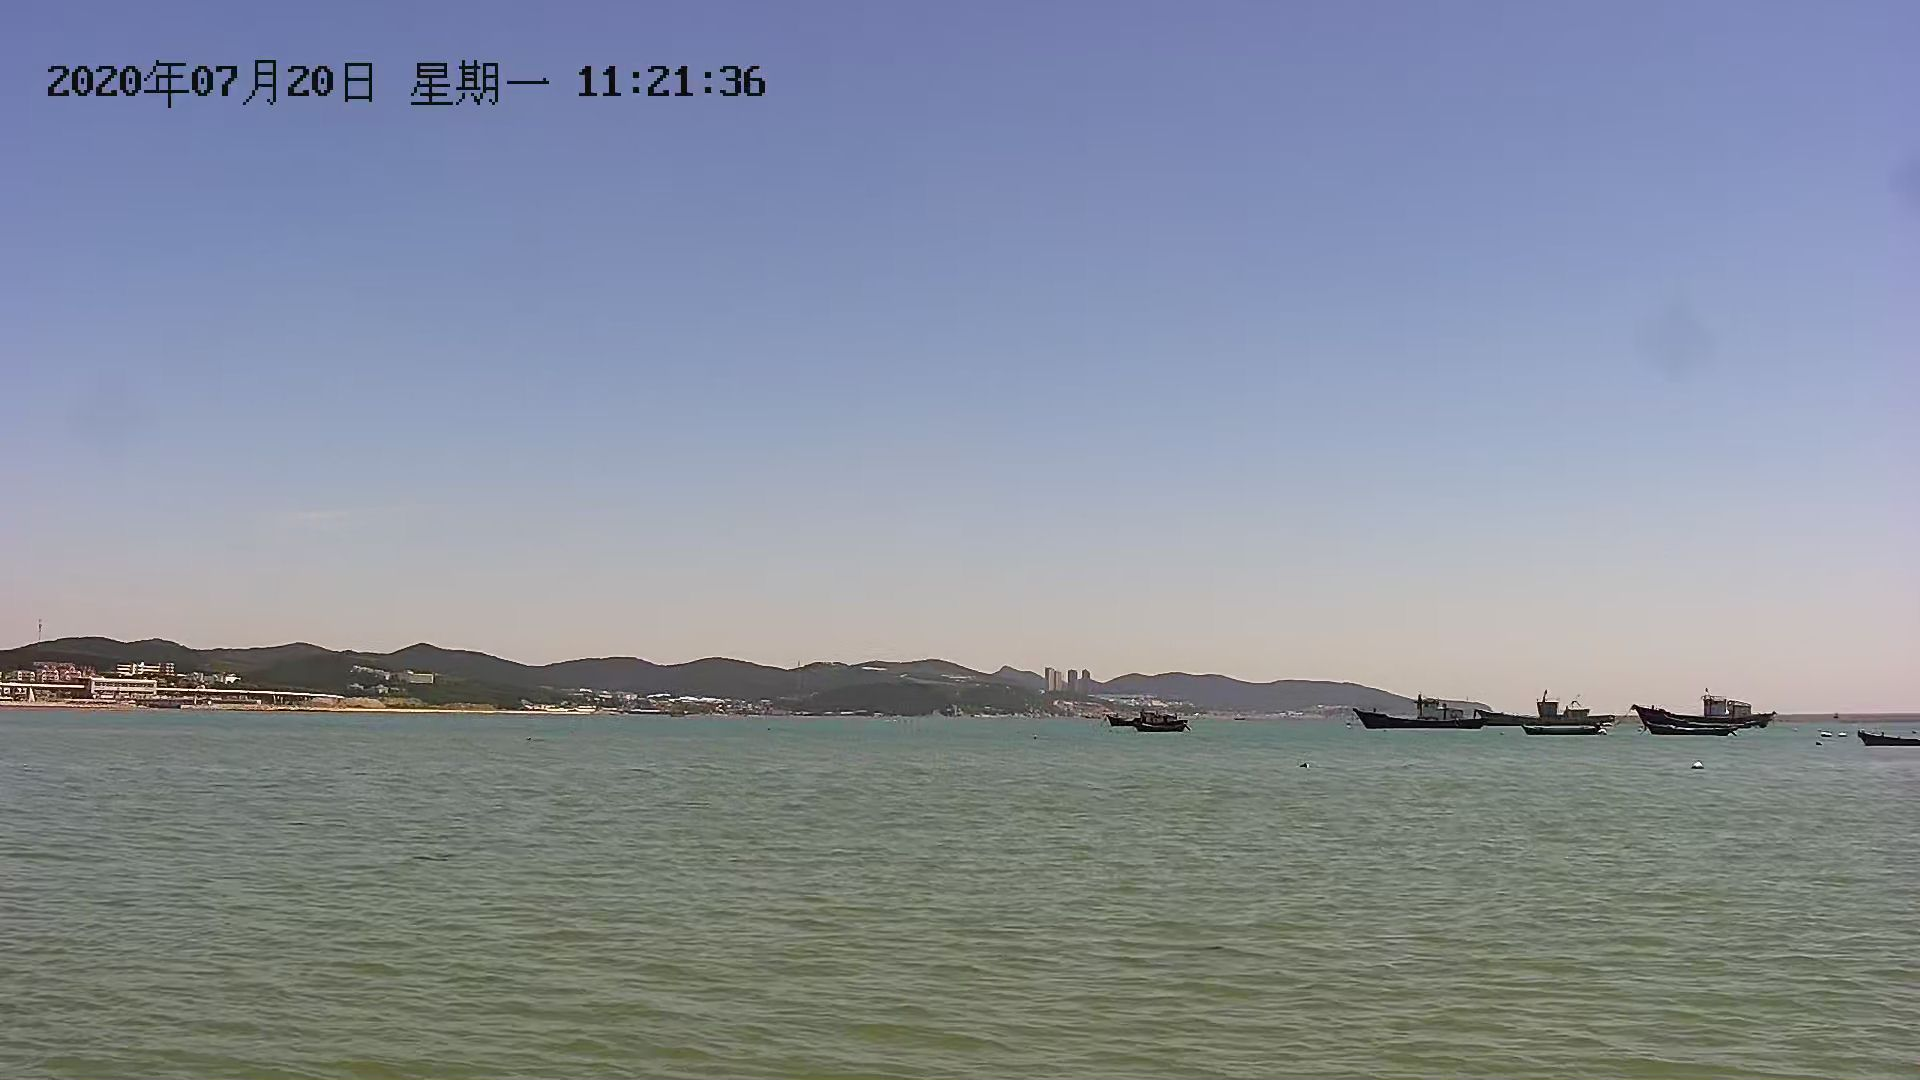boat: (1520, 717, 1611, 744), (1854, 723, 1920, 746)
ship: (1623, 679, 1780, 737), (1476, 684, 1619, 731), (1357, 688, 1490, 735), (1109, 705, 1185, 731)
